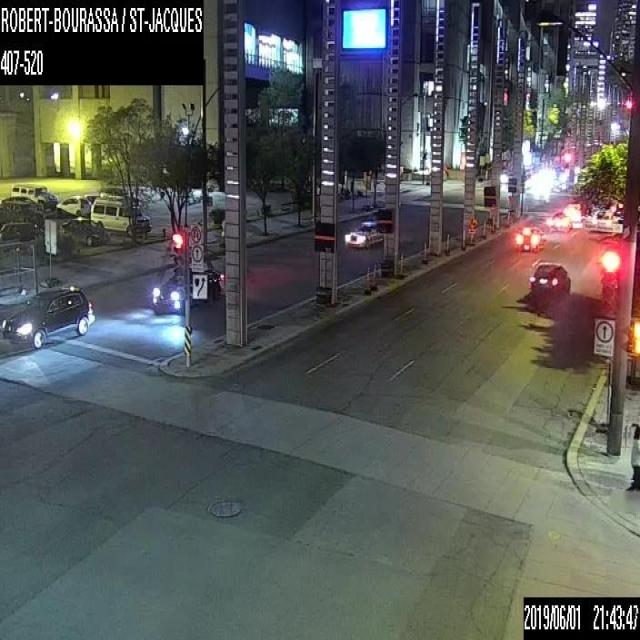construction: (466, 211, 476, 233), (372, 261, 375, 288), (399, 254, 403, 274), (495, 211, 499, 229), (366, 264, 369, 288), (491, 212, 495, 229), (446, 232, 449, 253), (423, 239, 426, 260), (461, 228, 464, 245), (506, 210, 509, 226), (482, 220, 485, 236)
vehicle: (1, 283, 94, 349), (152, 259, 225, 312), (90, 196, 151, 236), (528, 260, 571, 301), (60, 217, 107, 244), (10, 184, 58, 210), (345, 218, 382, 250), (55, 194, 92, 216), (515, 224, 544, 249), (590, 209, 616, 233), (545, 209, 570, 230)
